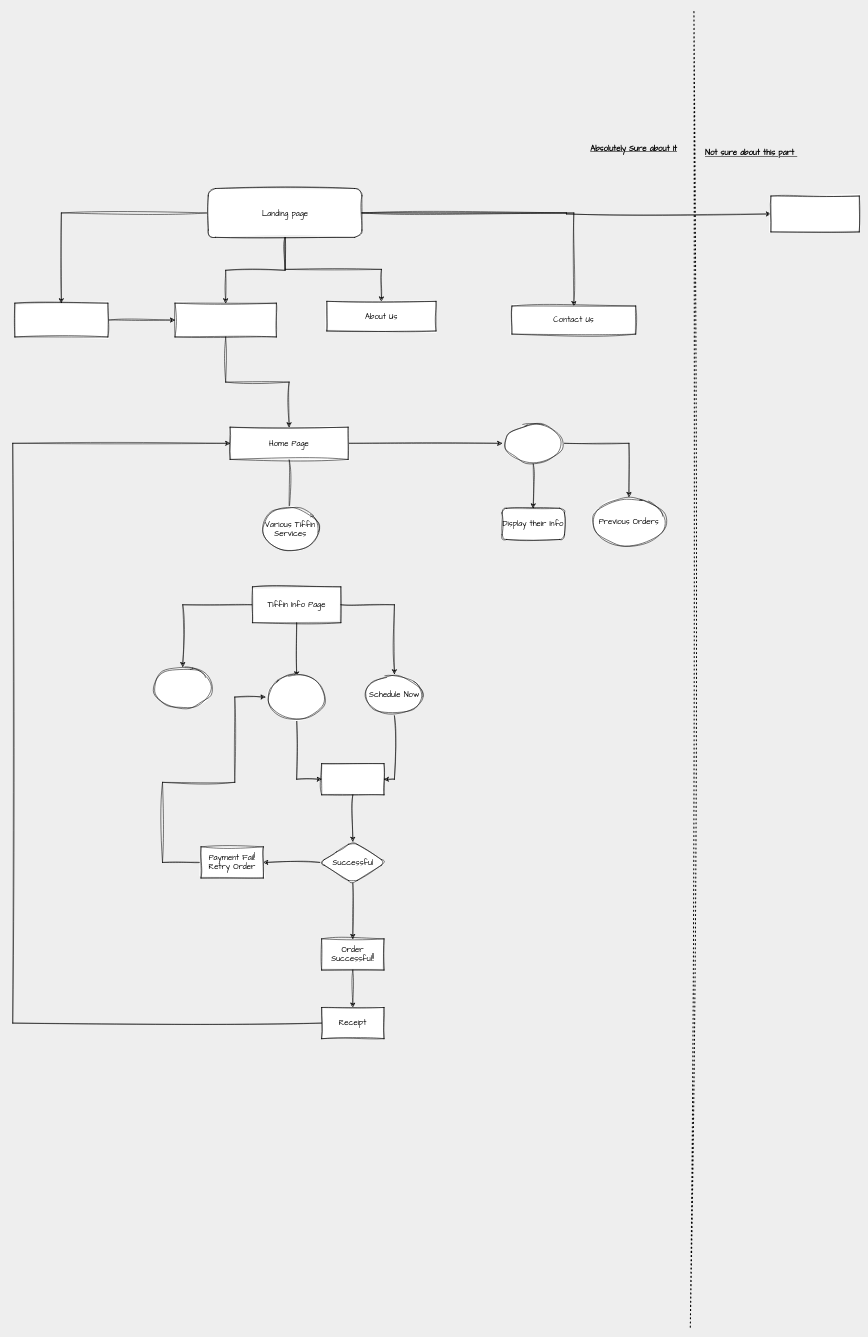
The diagram is 868 pixels wide and 1337 high, and some of its shapes have lost their labels. The box of each missing label's shape, as (x1, y1, x2, y2) in pixels:
Login Page: (174, 303, 276, 337)
Menu: (151, 666, 214, 708)
Order Now: (265, 676, 328, 718)
Payment: (321, 763, 384, 795)
Profile: (502, 422, 564, 464)
SignIn: (14, 303, 108, 337)
Tifiin Provider Login: (770, 196, 859, 232)
